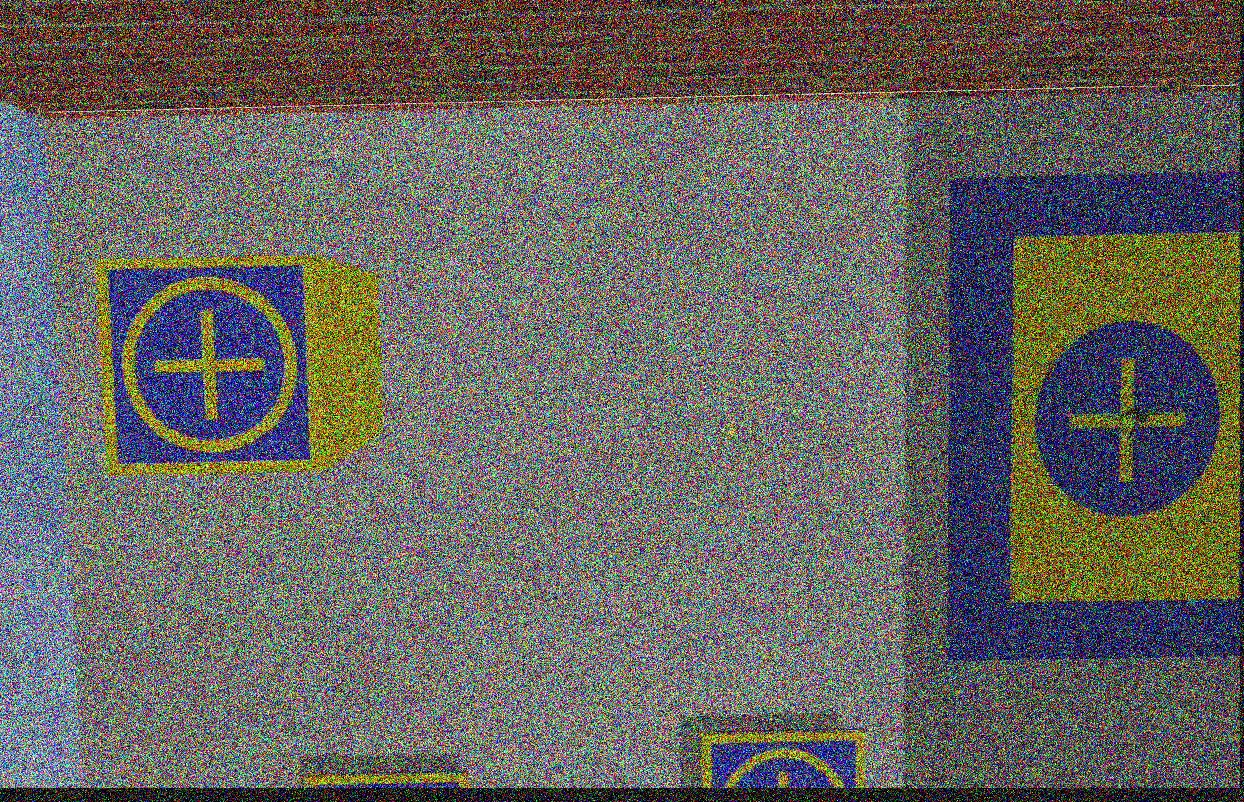large_base: (946, 173, 1244, 665)
small_base: (91, 252, 329, 478), (702, 729, 868, 792)
